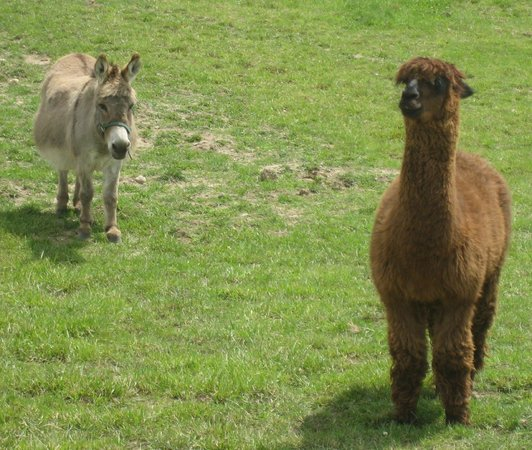alpaca: (366, 54, 513, 427)
